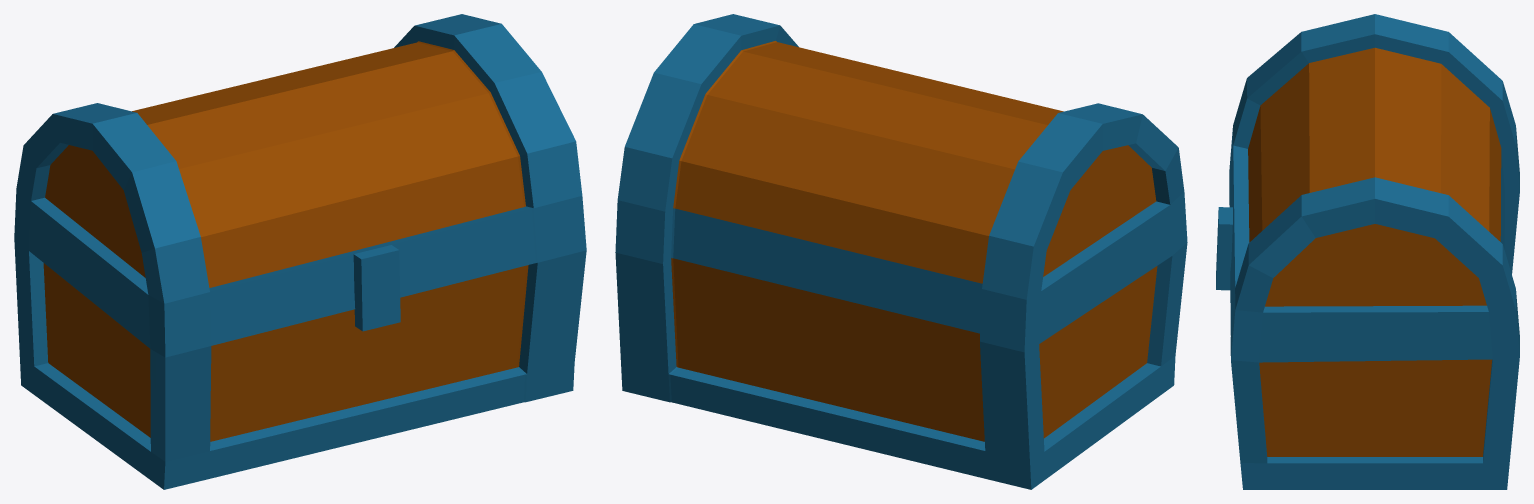
The model's file is Chess(1).glb.
3 renders of one model, left to right at view 1: azimuth 30°, elevation 25°; view 2: azimuth 150°, elevation 25°; view 3: azimuth 270°, elevation 25°, orthographic. The views are drawn at different scales.
Visible parts, largest first — view 1: Cylinder.001, Cylinder.002; view 2: Cylinder.001, Cylinder.002; view 3: Cylinder.001, Cylinder.002.
Boxes of the visible parts, bbox=[...] form: Cylinder.001: bbox=[14, 14, 586, 489]; Cylinder.002: bbox=[132, 42, 531, 291]; Cylinder.001: bbox=[615, 14, 1187, 489]; Cylinder.002: bbox=[675, 42, 1063, 283]; Cylinder.001: bbox=[1216, 14, 1519, 489]; Cylinder.002: bbox=[1233, 47, 1501, 286].
Bounding box in the file's own units: 3.06 × 2.18 × 2.06.
